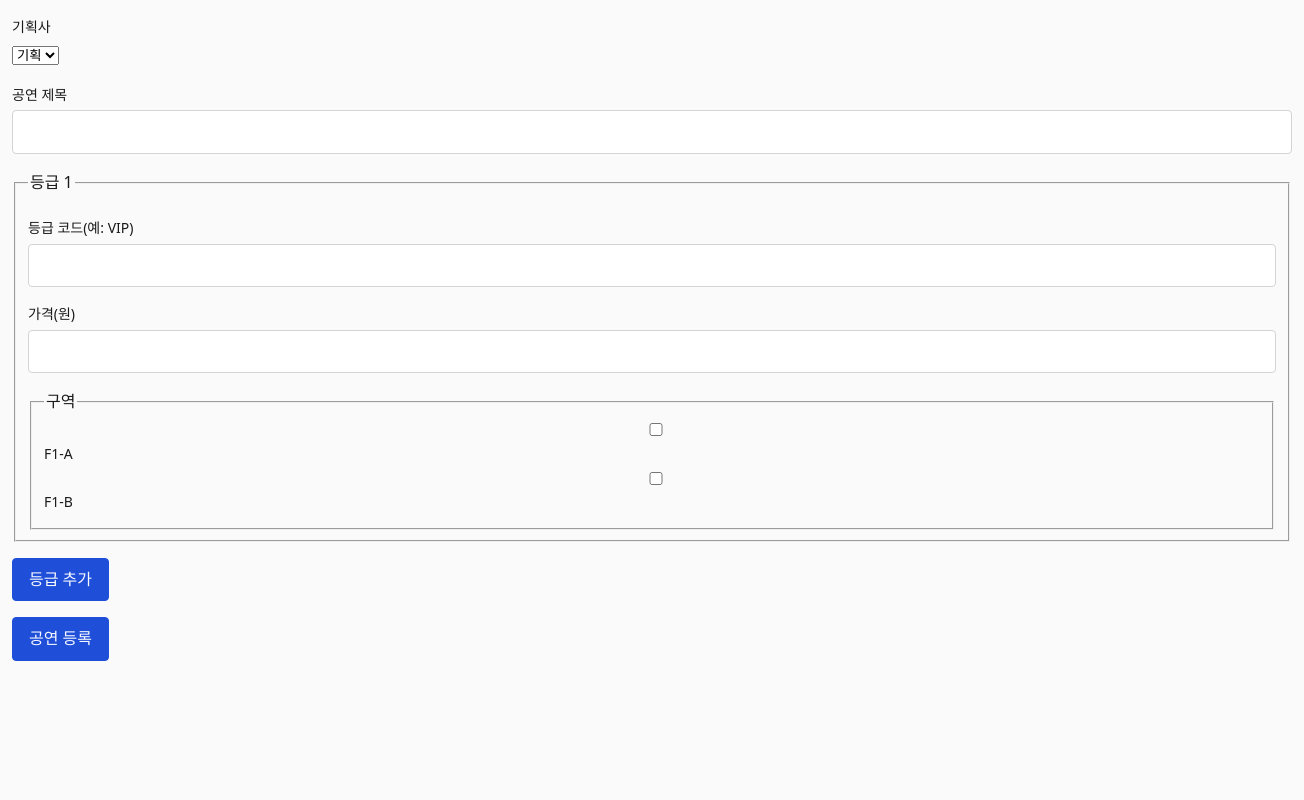
Test: 공연 등록 › 서버가 거절해도 친 값이 칸에 남는다(`39-4`)
Select "둘째" in the dropdown labelled "기획사" at (36, 56), box [12,46,59,65]
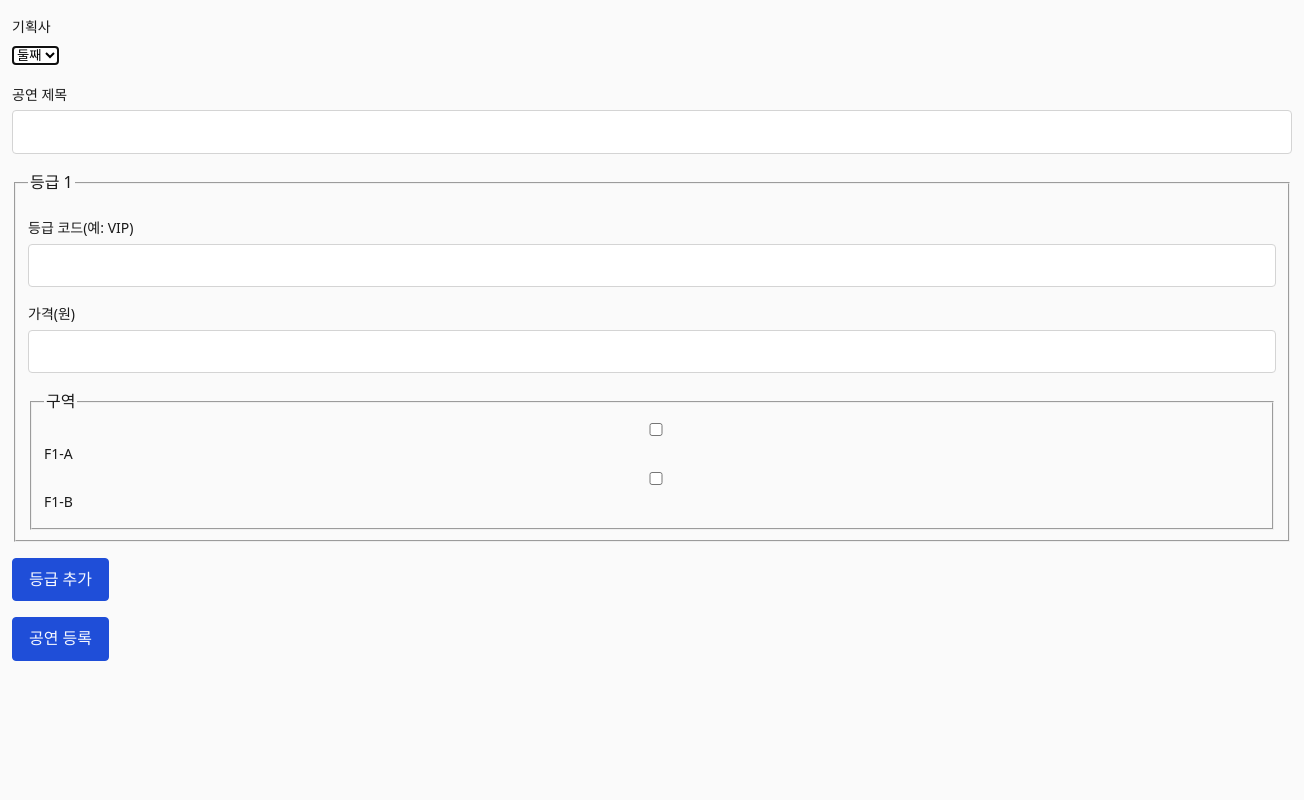
Type "겨울 콘서트" into the field labelled "공연 제목" at (652, 132), box [12,110,1292,154]
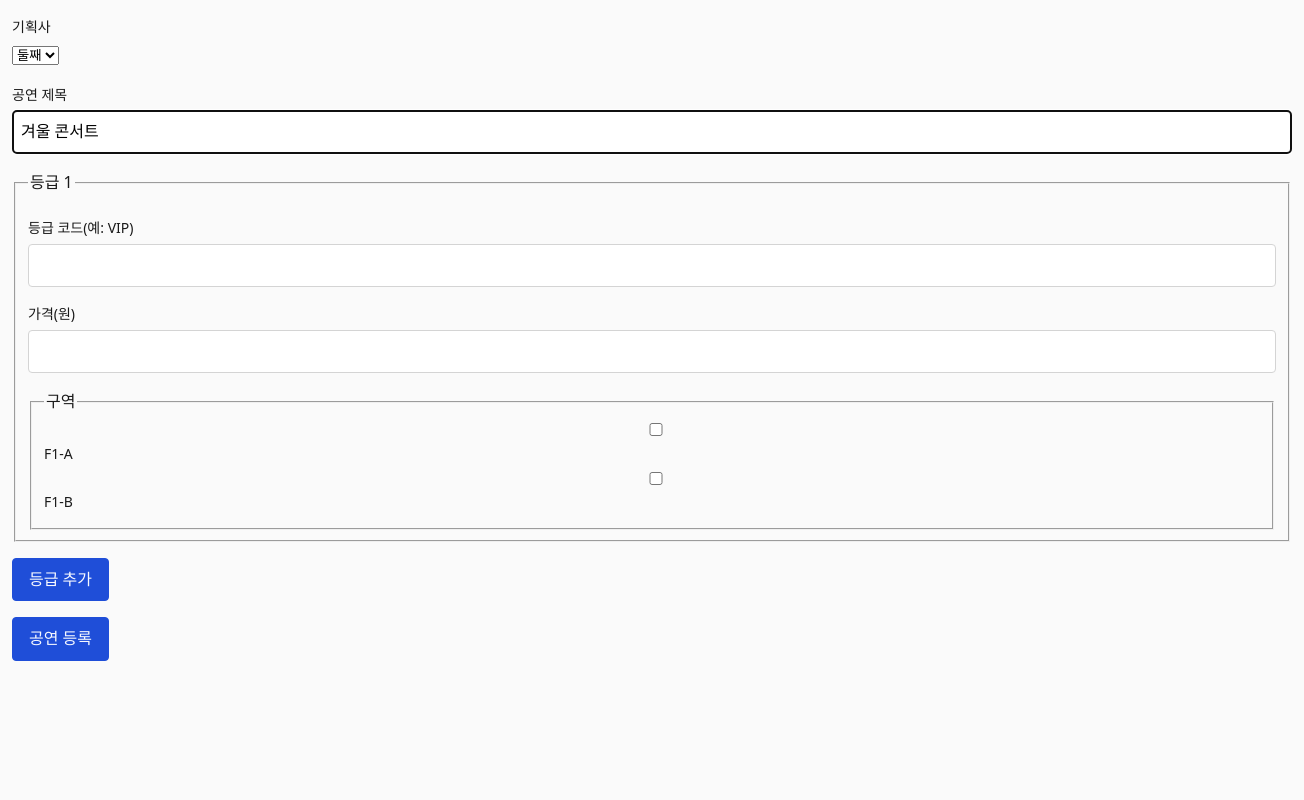
Type "VIP" into the field labelled "등급 코드(예: VIP)" at (652, 265), box [28,244,1276,287]
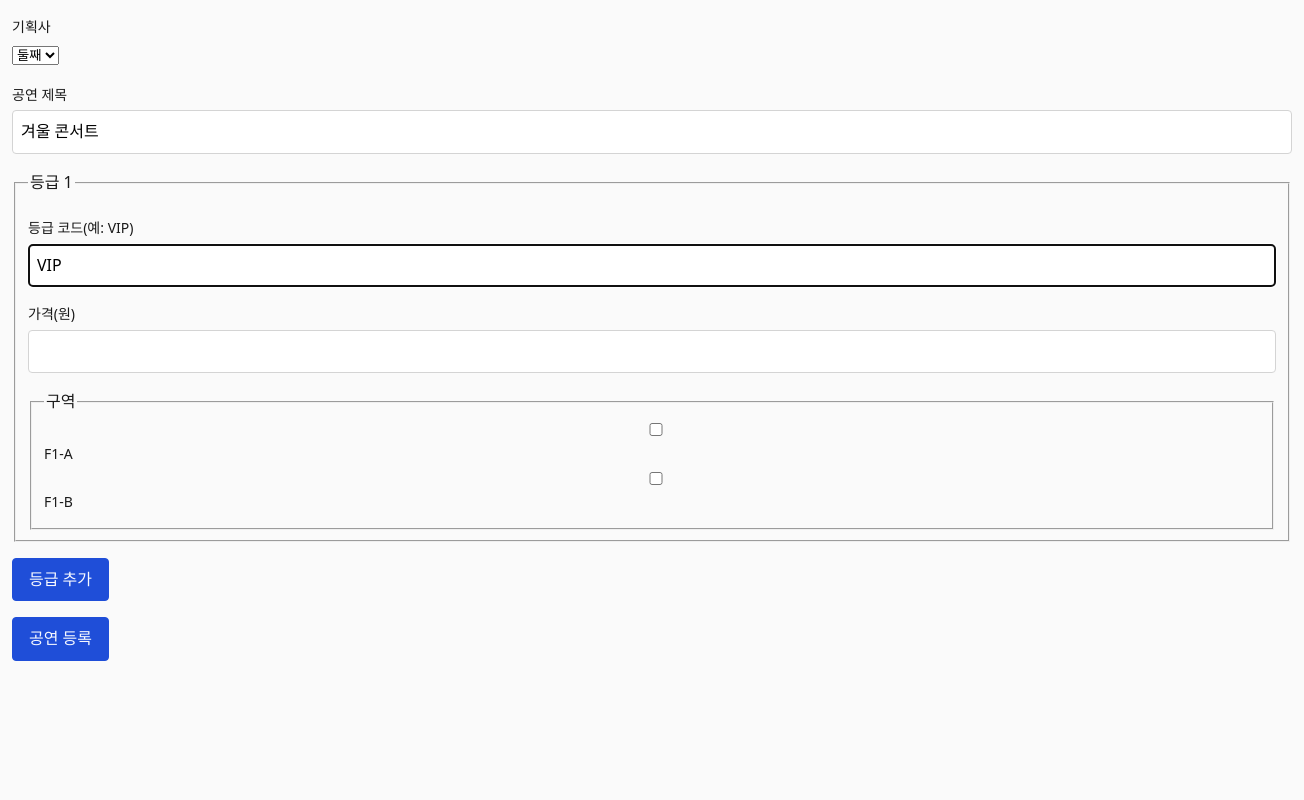
Type "154000" into the number field labelled "가격(원)" at (652, 351), box [28,330,1276,373]
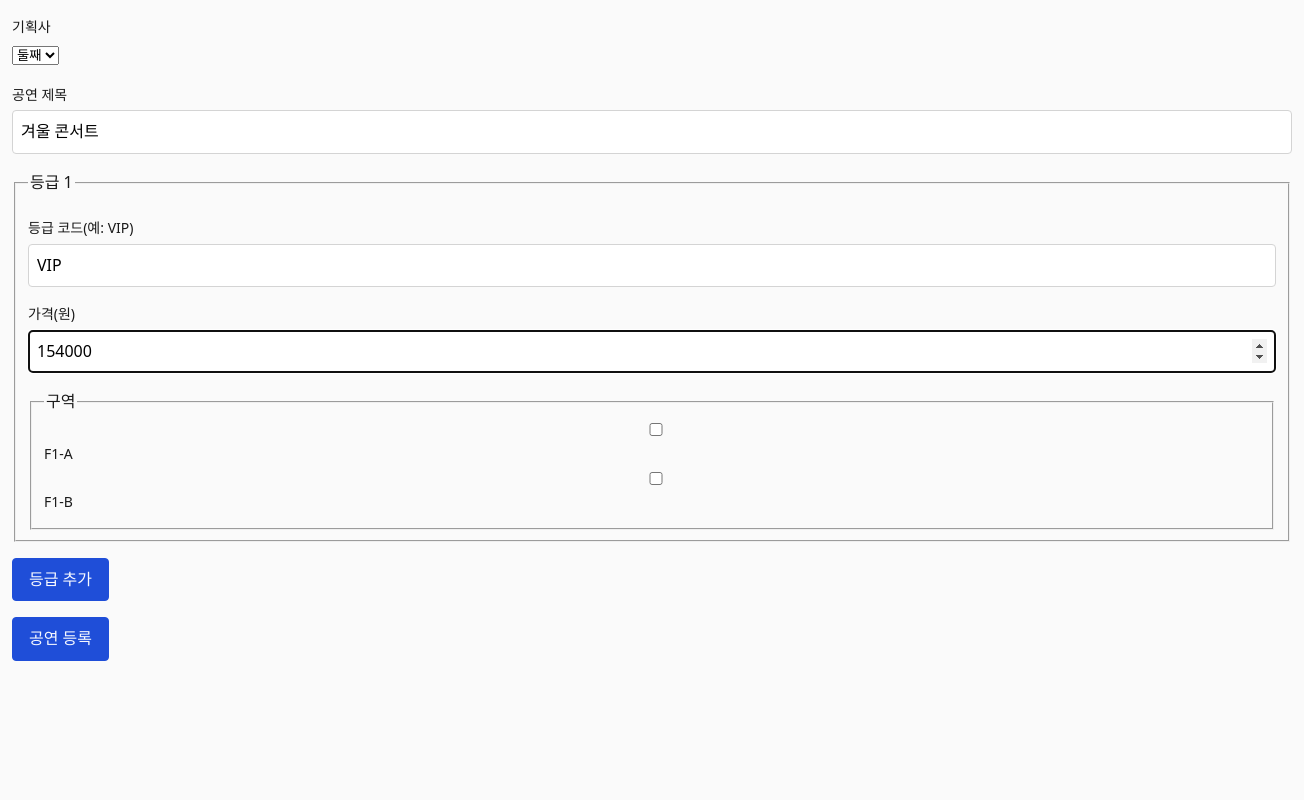
Click the checkbox labelled "F1-B" at (656, 479), box [48,472,1264,485]
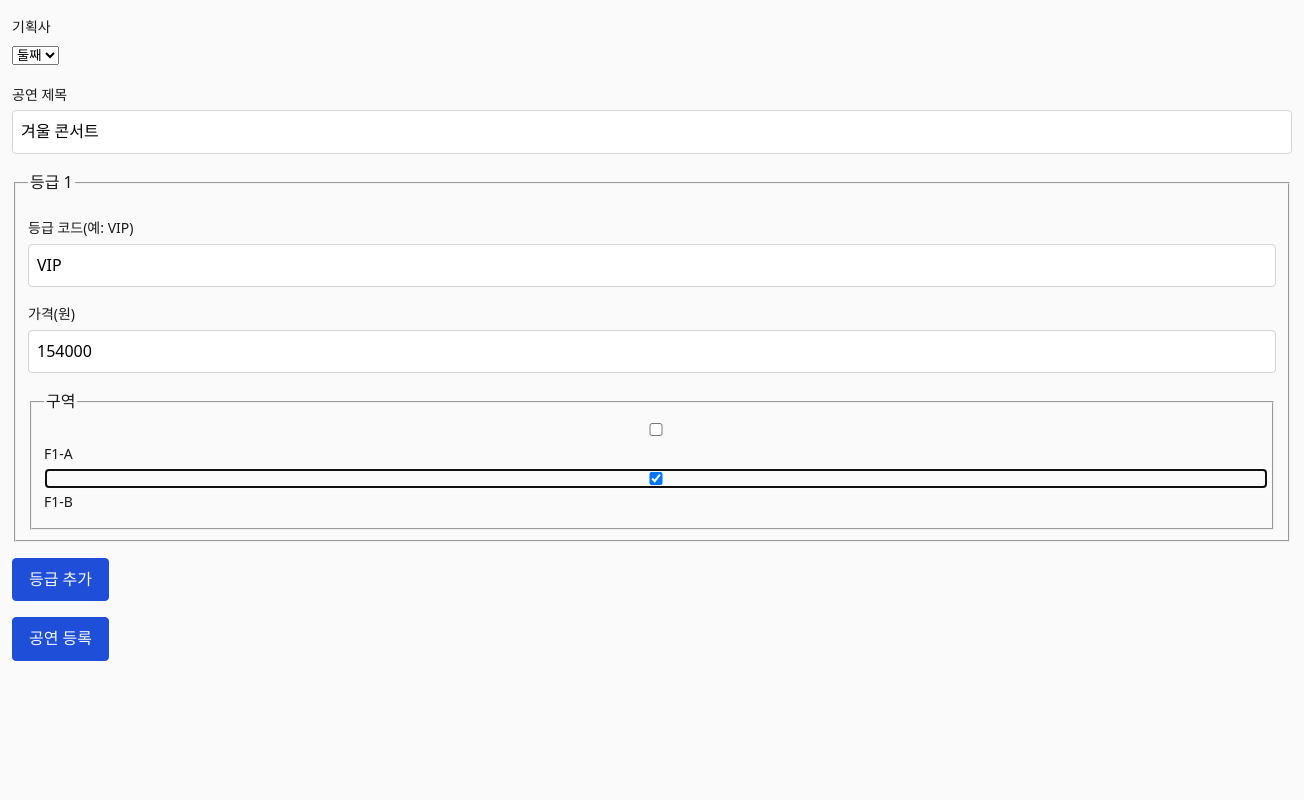
Click the button "공연 등록" at (60, 639), box [12,618,109,661]
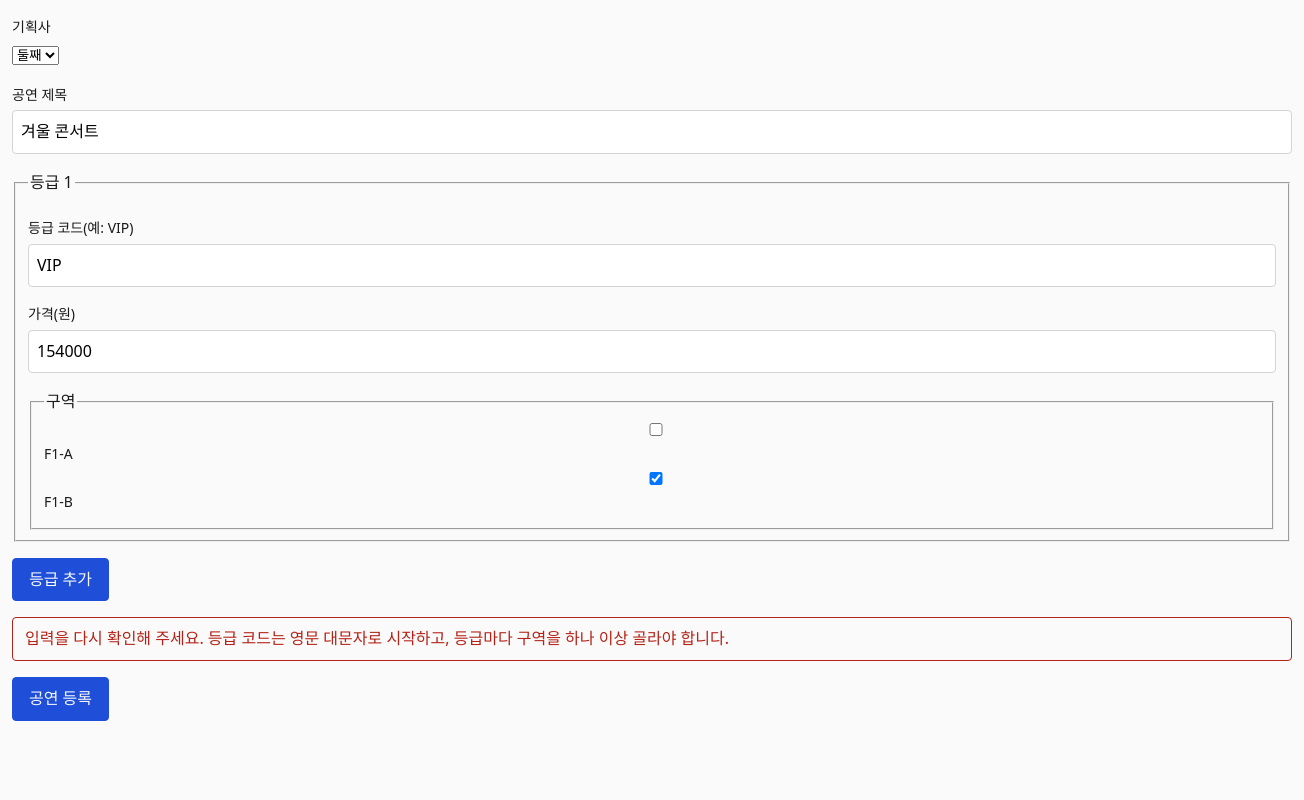
Result: the checkbox labelled "F1-B" is checked at [48,472,1264,485]
Result: the dropdown labelled "기획사" shows "둘째" at [12,46,59,65]
Result: the message "입력을 다시 확인해 주세요. 등급 코드는 영문 대문자로 시작하고, 등급마다 구역을 하나 이상 골라야 합니다." is shown at [12,618,1292,661]
